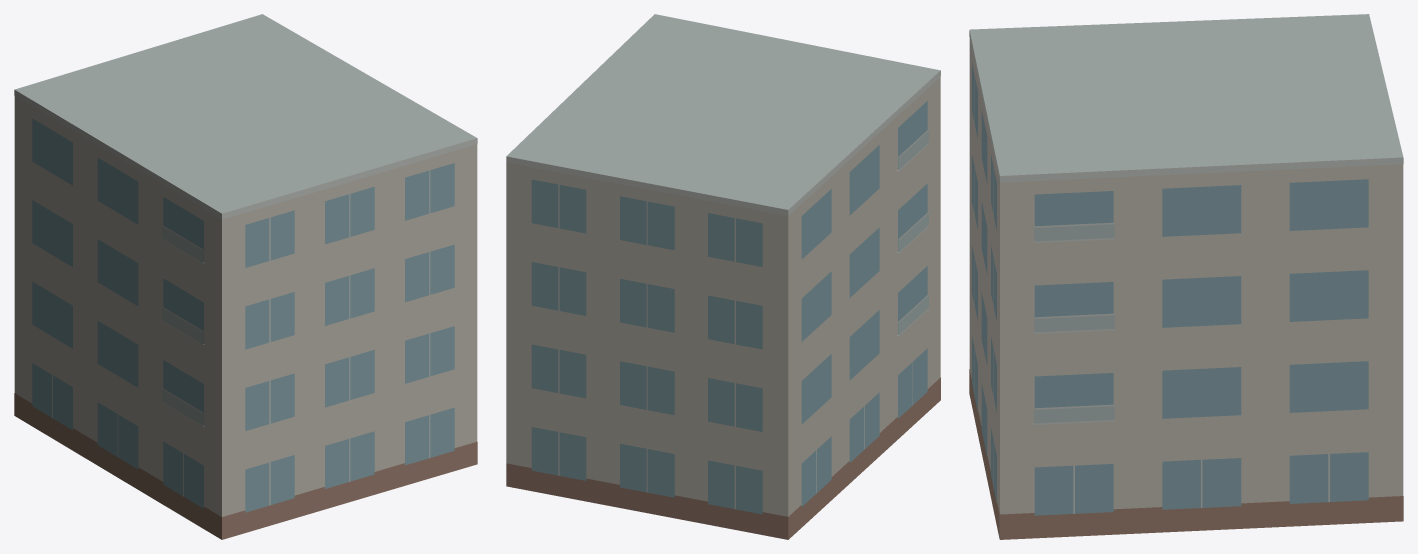
The model's file is survey-upis-32633386.glb.
The picture shows the model from 3 angles, left to right: view 1: azimuth 30°, elevation 25°; view 2: azimuth 150°, elevation 25°; view 3: azimuth 270°, elevation 25°; orthographic projection. The views are drawn at different scales.
Parts seen in each view (by area): view 1: survey-upis-32633386.tmp; view 2: survey-upis-32633386.tmp; view 3: survey-upis-32633386.tmp.
Part boxes in pixels (left/top/right/bottom): survey-upis-32633386.tmp: left=14, top=14, right=477, bottom=539; survey-upis-32633386.tmp: left=506, top=14, right=940, bottom=539; survey-upis-32633386.tmp: left=969, top=14, right=1403, bottom=539.
Bounding box in the file's own units: 12.61 × 13.2 × 14.28.
